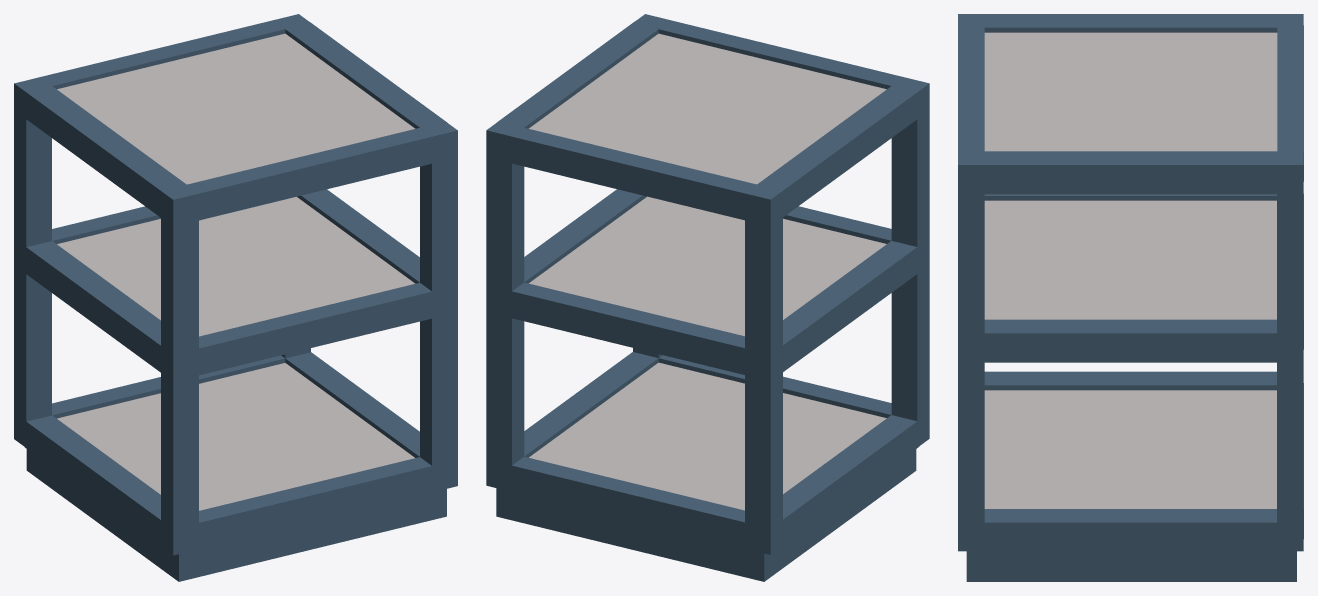
File: bedside_table_tier14.fbx
3 renders of one model, left to right at view 1: azimuth 30°, elevation 25°; view 2: azimuth 150°, elevation 25°; view 3: azimuth 270°, elevation 25°, orthographic. The views are drawn at different scales.
Parts seen in each view (by area): view 1: Cube.017, Cube.012, Cube.005, Cube.003, Cube.009, Cube.004, Cube.007, Cube.018, Cube.006, Cube.013, Cube.021, Cube.016 (+7 smaller); view 2: Cube.017, Cube.012, Cube.005, Cube.004, Cube.010, Cube.003, Cube.007, Cube.019, Cube.014, Cube.002, Cube.021, Cube.016 (+7 smaller); view 3: Cube.017, Cube.005, Cube.012, Cube.020, Cube.008, Cube.015, Cube.010, Cube.009, Cube.007, Cube.016, Cube.021, Cube.019 (+2 smaller).
Boxes of the visible parts, <box> form: Cube.017: <box>57,33,415,184</box>; Cube.012: <box>57,363,414,510</box>; Cube.005: <box>57,197,414,336</box>; Cube.003: <box>161,184,198,555</box>; Cube.009: <box>420,121,457,492</box>; Cube.004: <box>14,77,51,447</box>; Cube.007: <box>26,449,446,581</box>; Cube.018: <box>187,128,433,221</box>; Cube.006: <box>194,282,433,376</box>; Cube.013: <box>194,457,433,550</box>; Cube.021: <box>26,86,186,217</box>; Cube.016: <box>25,415,162,548</box>; Cube.017: <box>529,33,886,184</box>; Cube.012: <box>529,362,886,510</box>; Cube.005: <box>529,196,886,336</box>; Cube.004: <box>745,184,782,554</box>; Cube.010: <box>486,121,524,491</box>; Cube.003: <box>891,77,929,447</box>; Cube.007: <box>496,449,916,581</box>; Cube.019: <box>510,127,756,221</box>; Cube.014: <box>510,456,749,550</box>; Cube.002: <box>510,282,749,375</box>; Cube.021: <box>757,86,917,217</box>; Cube.016: <box>781,415,919,547</box>; Cube.017: <box>984,32,1277,151</box>; Cube.005: <box>984,200,1276,319</box>; Cube.012: <box>984,390,1276,508</box>; Cube.020: <box>980,151,1280,194</box>; Cube.008: <box>980,319,1280,362</box>; Cube.015: <box>980,509,1280,551</box>; Cube.010: <box>1277,151,1303,551</box>; Cube.009: <box>958,151,984,551</box>; Cube.007: <box>966,551,1296,581</box>; Cube.016: <box>984,371,1276,390</box>; Cube.021: <box>984,14,1277,32</box>; Cube.019: <box>1277,25,1303,181</box>.
Size of the model in its own units: 77.7 by 101 by 75.16.
